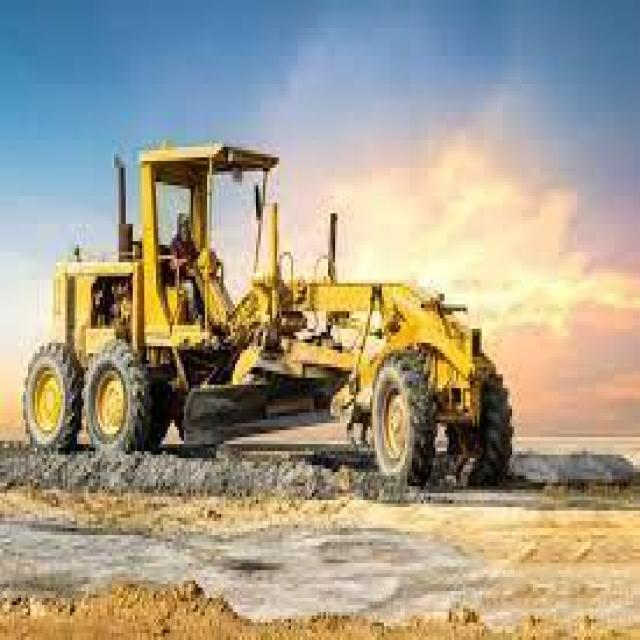buldozerpayloadergrader: (12, 123, 514, 514)
